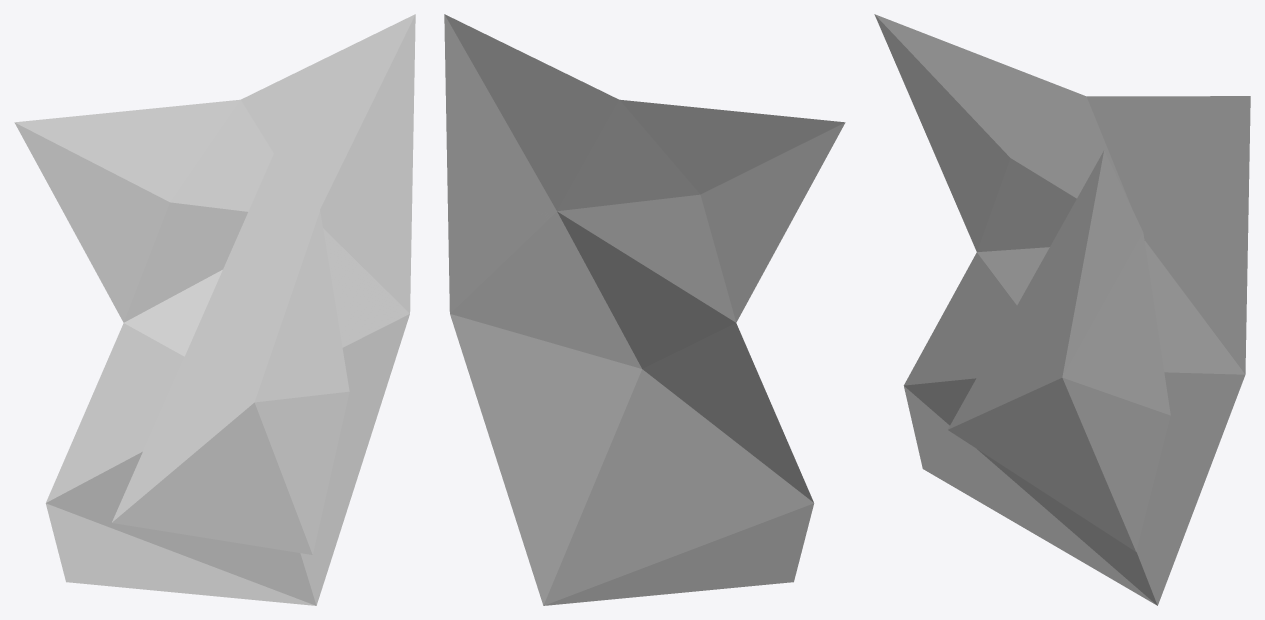
The model's file is SM_Env_Ivy_Flowers_05.glb.
3 views of the same model, side by side, from view 1: azimuth 30°, elevation 25°; view 2: azimuth 150°, elevation 25°; view 3: azimuth 330°, elevation 25° (orthographic). The views are drawn at different scales.
Visible parts, largest first — view 1: SM_Env_Ivy_Flowers_05; view 2: SM_Env_Ivy_Flowers_05; view 3: SM_Env_Ivy_Flowers_05.
Part boxes in pixels (x1,y1,x2,y2): SM_Env_Ivy_Flowers_05: (14, 14, 415, 605); SM_Env_Ivy_Flowers_05: (444, 14, 845, 605); SM_Env_Ivy_Flowers_05: (874, 14, 1250, 605).
Size of the model in its own units: 1.16 by 1.56 by 0.0992.
Materials: 1 (1 with a texture image).
